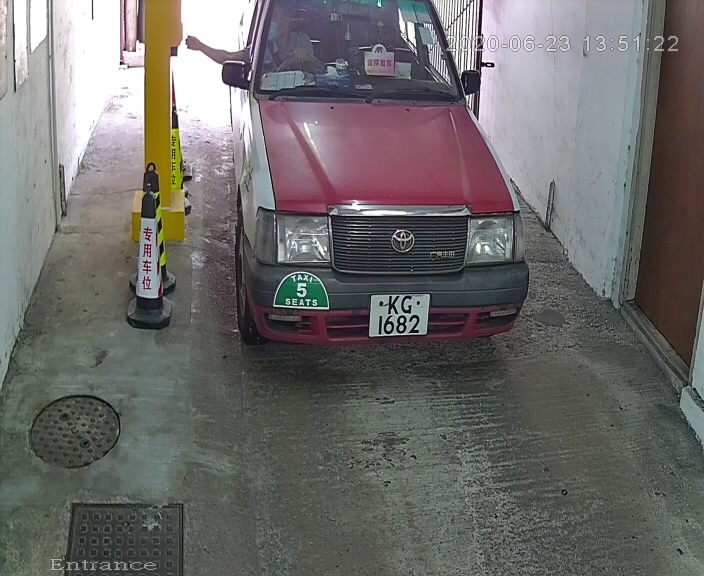taxi: (200, 1, 541, 385)
taxi_mark: (261, 262, 339, 317)
